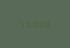eight: (42, 20, 47, 28)
five: (18, 19, 23, 27)
zero: (30, 19, 35, 28), (24, 19, 29, 27), (36, 20, 41, 28)
